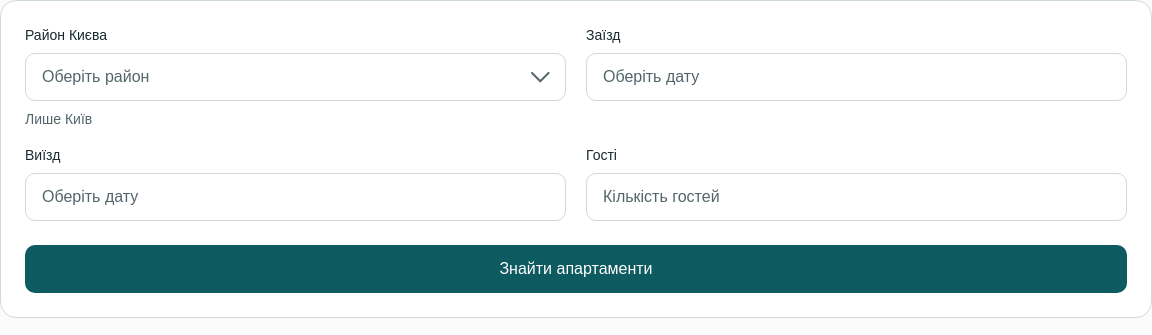
Scenario: <SearchForm> › guests field keeps digits only and clamps to 1..50
Type "a9b9" into the field labelled "Гості" at (856, 197), box [586,173,1127,221]
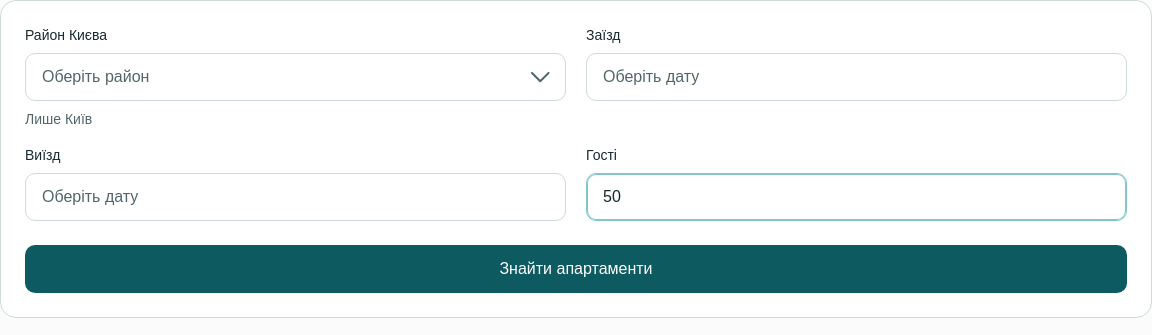
Now the field labelled "Гості" holds "50"
Replace the text in the field labelled "Гості" with "0" at (856, 197), box [586,173,1127,221]
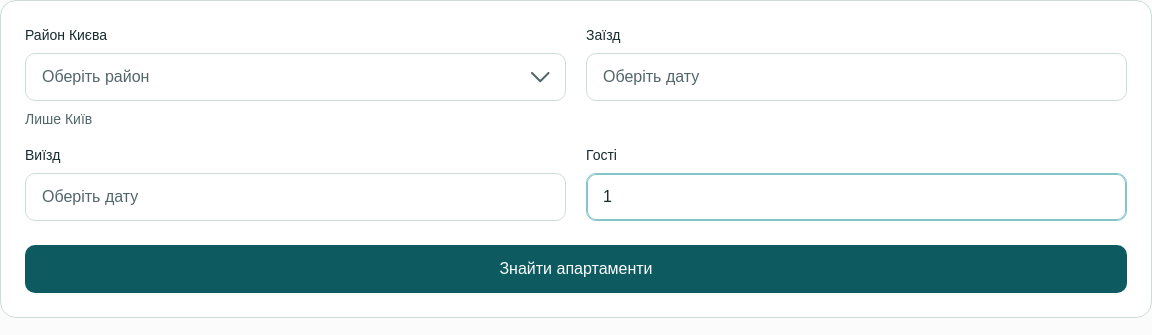
Now the field labelled "Гості" holds "1", box [586,173,1127,221]
